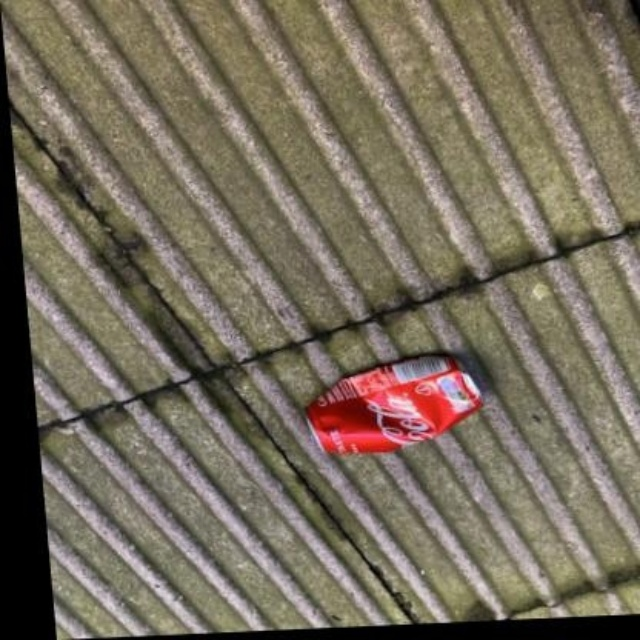trash: (306, 354, 482, 452)
